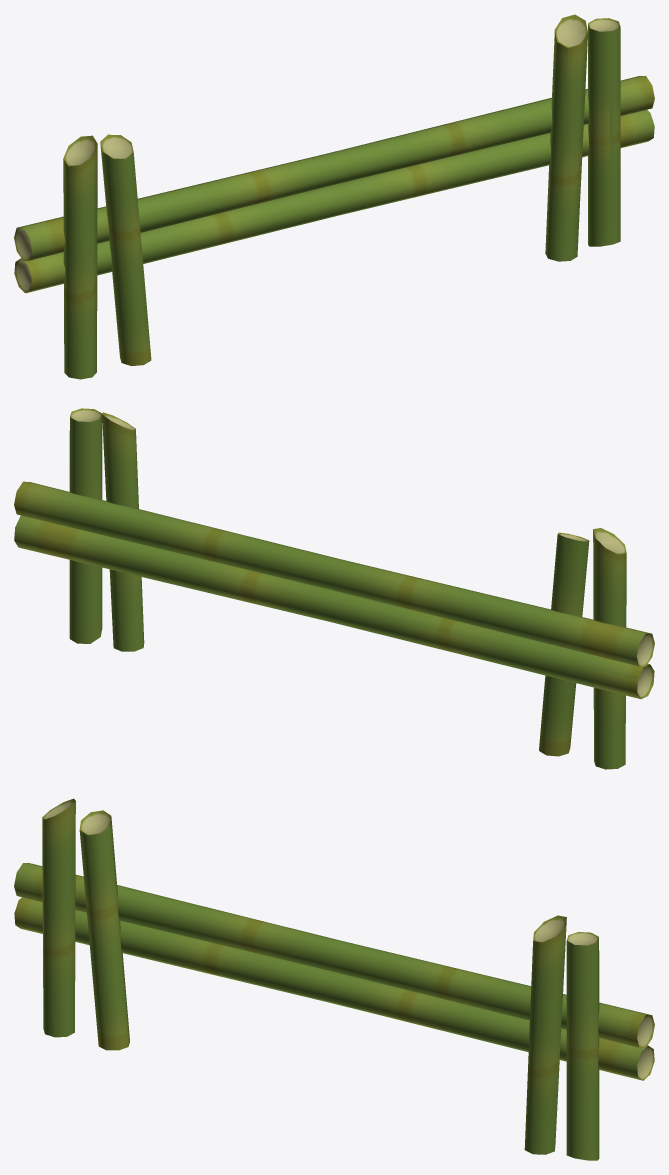
The model's file is Bamboo_barrier_2.fbx.
3 views of the same model, one above another, from view 1: azimuth 30°, elevation 25°; view 2: azimuth 150°, elevation 25°; view 3: azimuth 330°, elevation 25° (orthographic).
Visible parts, largest first — view 1: Bamboo_barrier_2_LOD0; view 2: Bamboo_barrier_2_LOD0; view 3: Bamboo_barrier_2_LOD0.
Boxes of the visible parts, bbox=[...] form: Bamboo_barrier_2_LOD0: bbox=[14, 14, 654, 379]; Bamboo_barrier_2_LOD0: bbox=[14, 408, 654, 769]; Bamboo_barrier_2_LOD0: bbox=[14, 798, 654, 1160].
Size of what is drawn, in the model's own units: 169 by 60.58 by 13.34.
